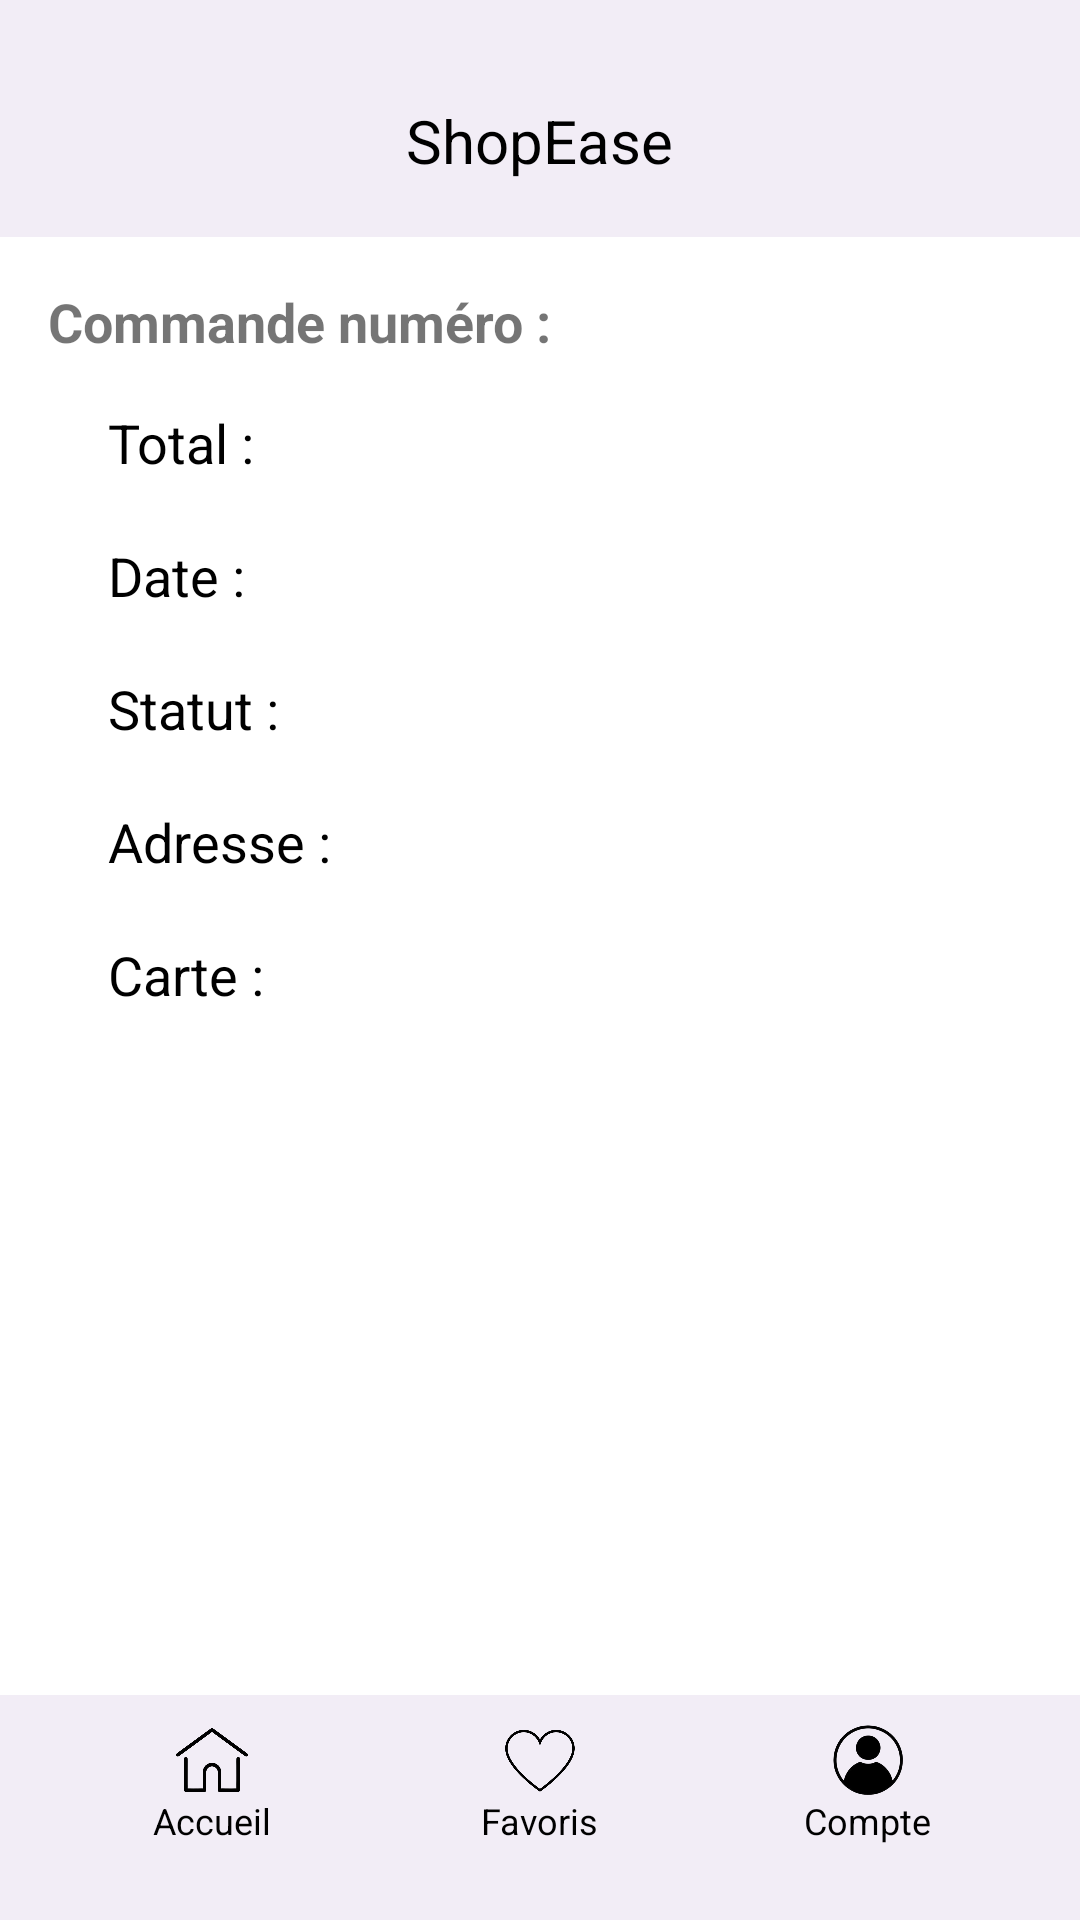

Screen size 1080 x 1920. Icon name, then its center in pixels as (x=x, y=y):
heart: (x=540, y=1761)
